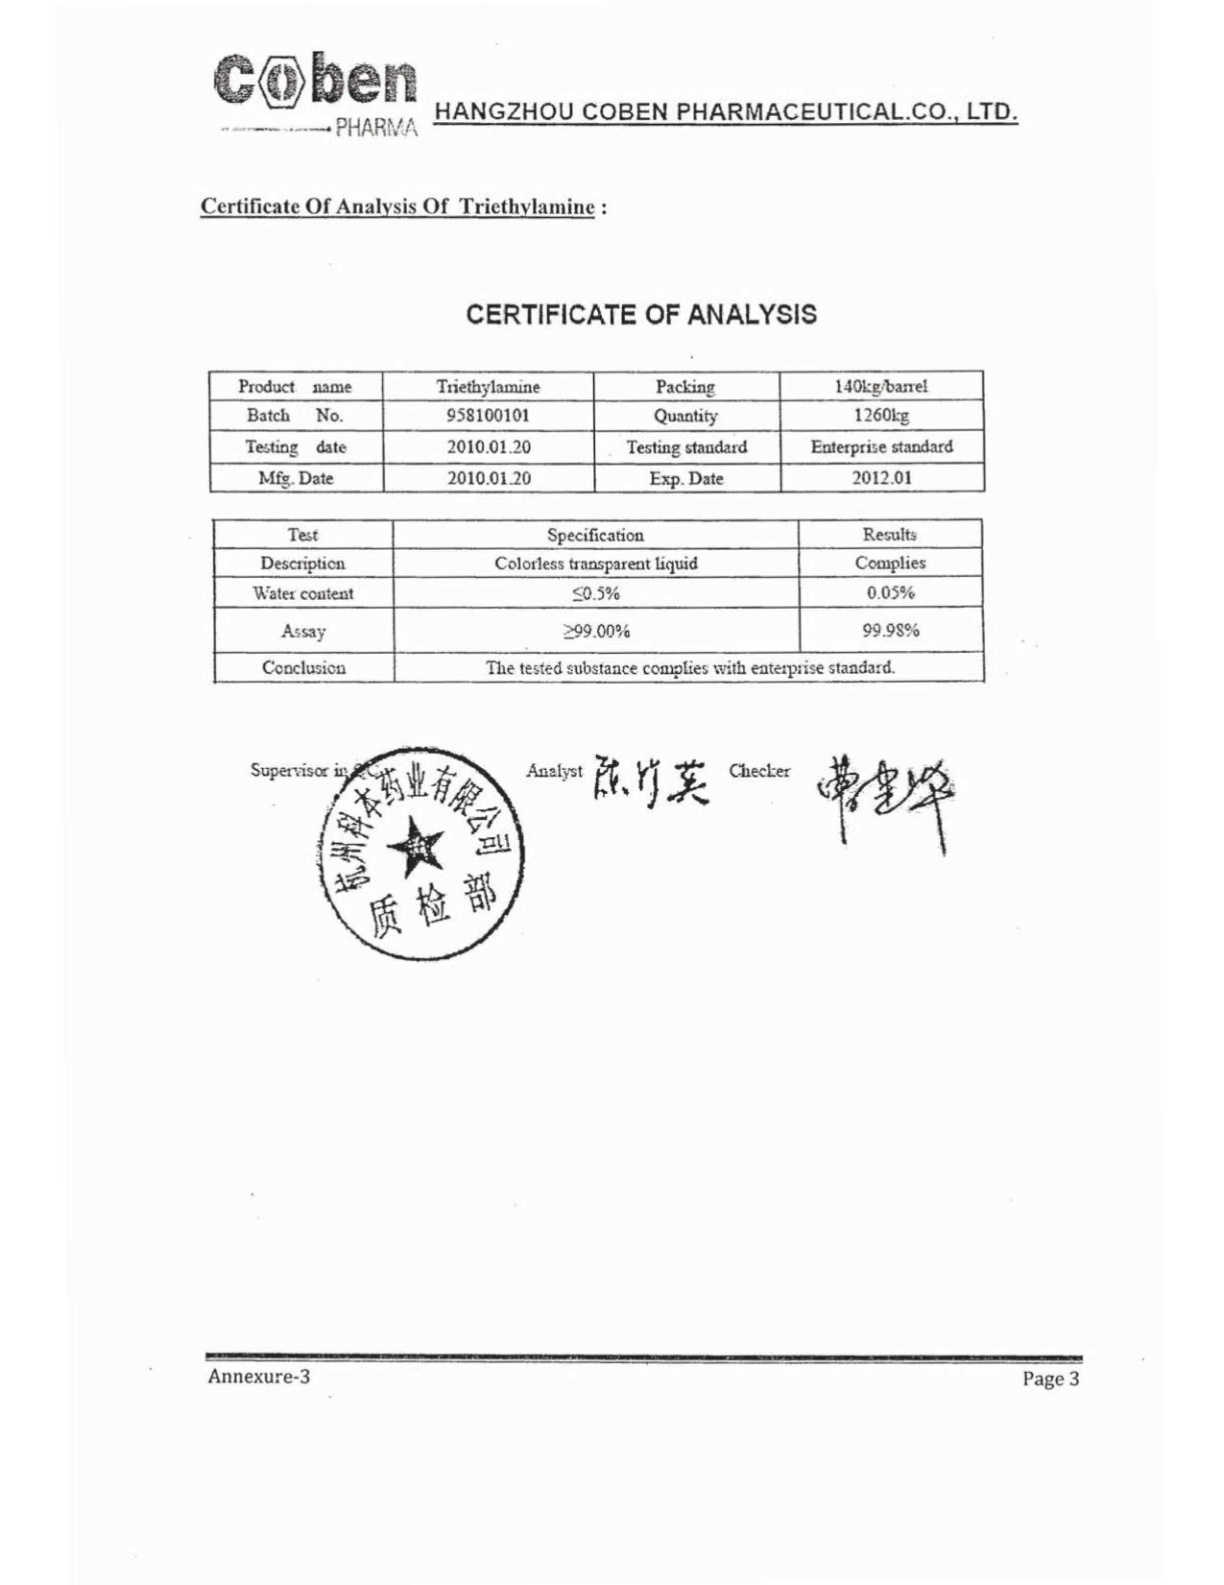full_lined: (189, 508, 1002, 695), (186, 354, 1009, 503)
